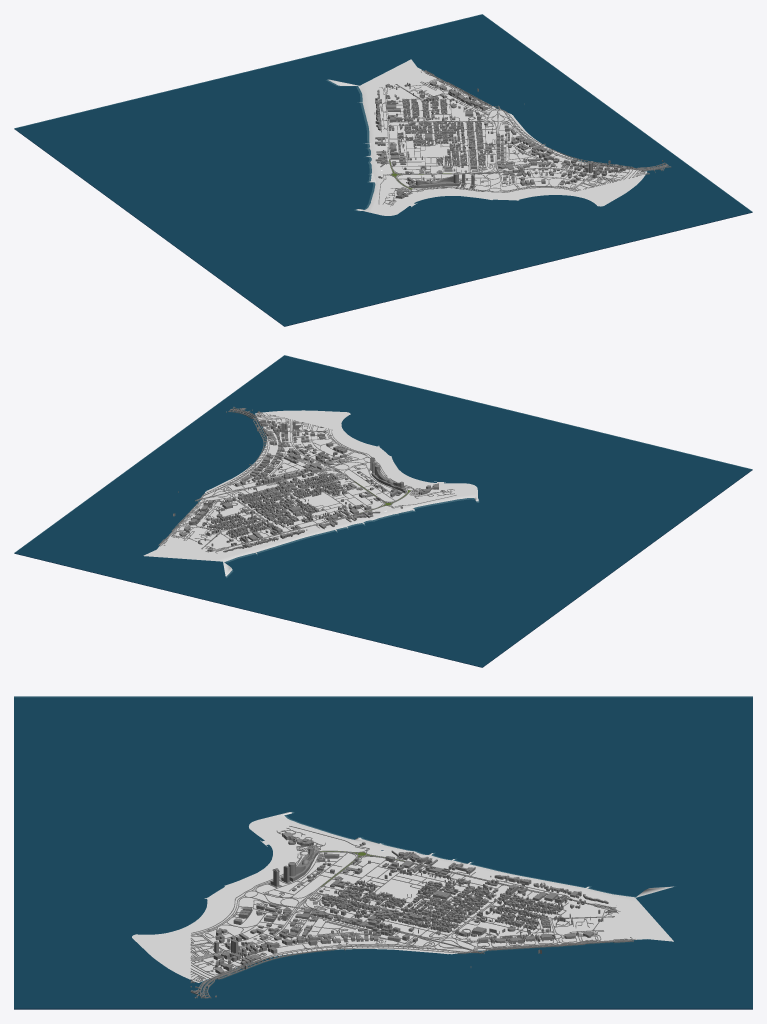
The model's file is the_residence_ground.glb.
3 renders of one model, top to bottom at view 1: azimuth 30°, elevation 25°; view 2: azimuth 150°, elevation 25°; view 3: azimuth 270°, elevation 25°, orthographic. The views are drawn at different scales.
Visible parts, largest first — view 1: Plane, land, build, road; view 2: Plane, land, build, road; view 3: Plane, land, build, road.
Part boxes in pixels (x1,y1,x2,y2): Plane: (14, 14, 752, 326); land: (327, 59, 646, 215); build: (374, 81, 663, 198); road: (378, 70, 671, 206); Plane: (14, 355, 752, 667); land: (143, 410, 478, 576); build: (173, 411, 438, 552); road: (158, 407, 456, 553); Plane: (14, 696, 752, 1009); land: (132, 812, 673, 982); build: (213, 832, 616, 997); road: (190, 826, 636, 998).
Size of the model in its own units: 5500 by 172 by 5500.
Materials: 6 (1 with a texture image).
